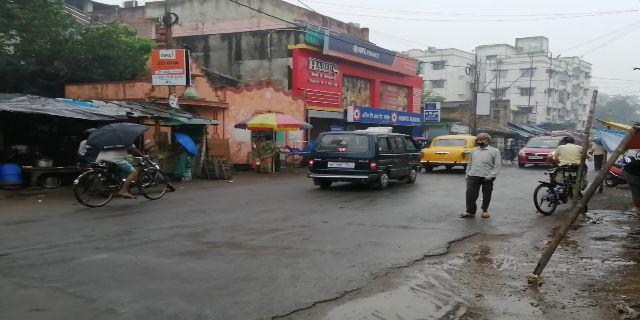Car: (422, 136, 477, 173), (517, 132, 557, 167)
Cycle: (72, 131, 168, 204)
Van: (305, 133, 420, 188)
